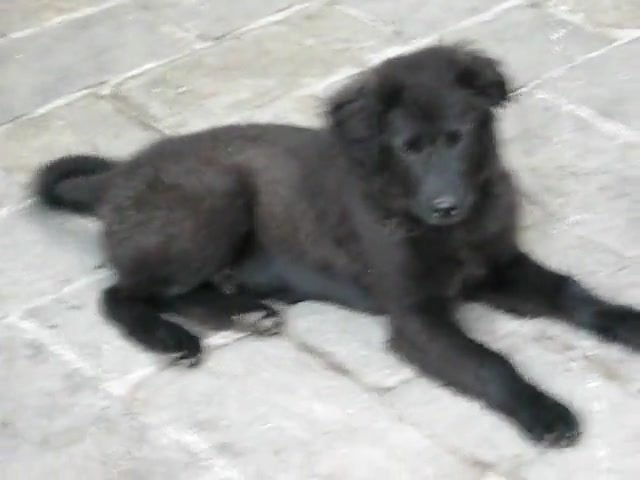dog: (32, 46, 640, 448)
